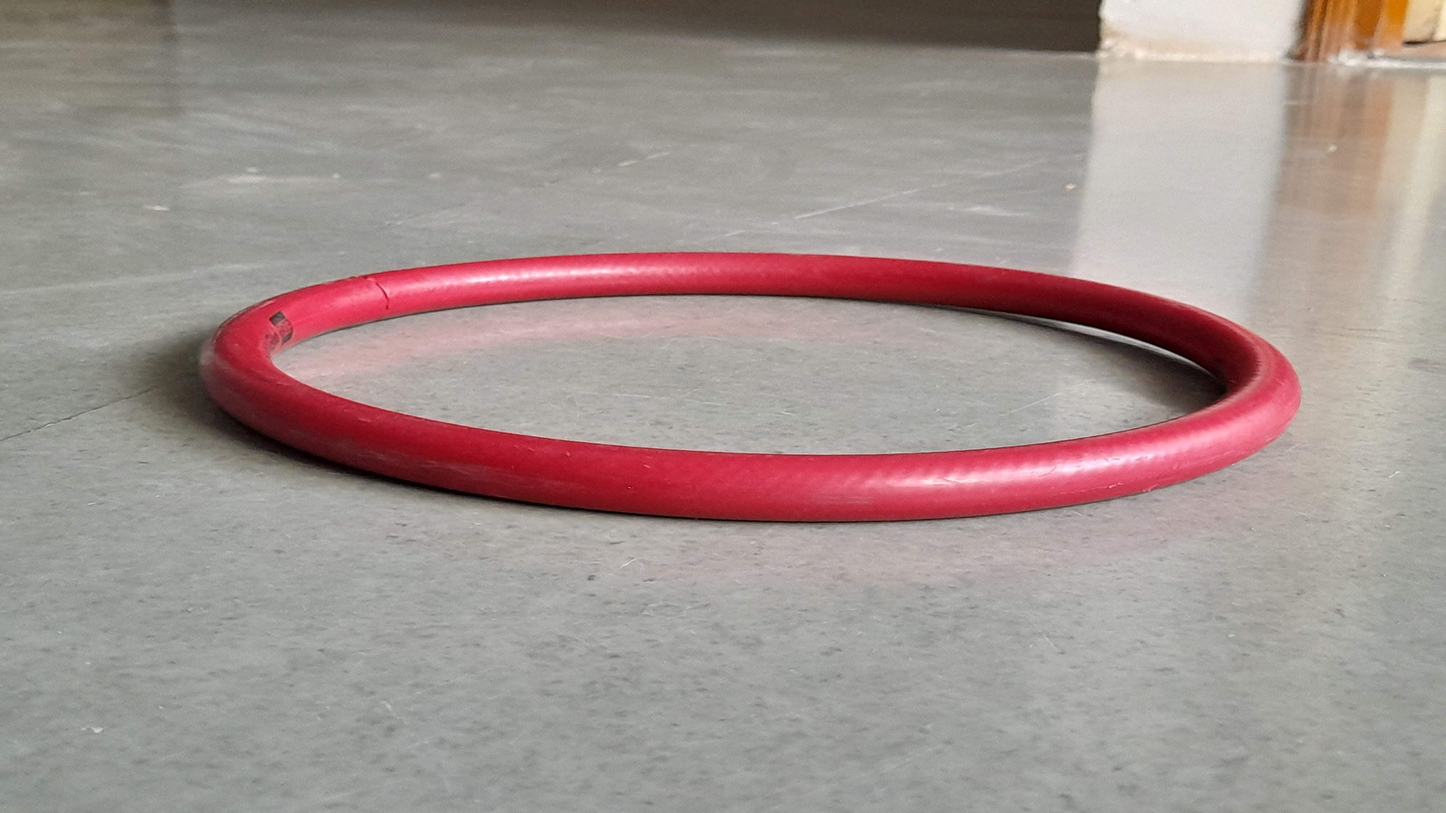Red ring: (199, 253, 1304, 521)
